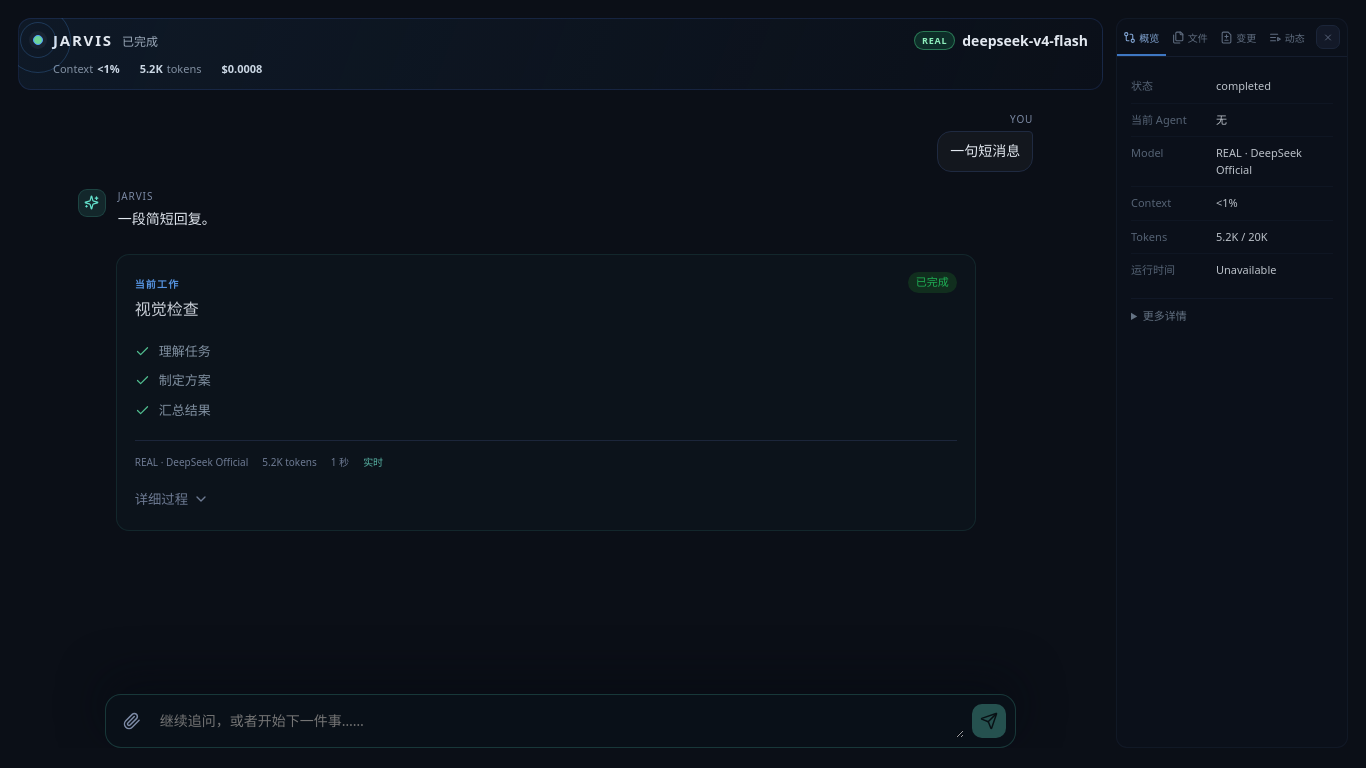
UI-POLISH03/04/05/08: compact header semantics, user identity dedup, and inspector close hold
Check: the text "一句短消息" is shown, box 937,131 -> 1033,172
Check: the element with class "user" shows "You", box 1010,112 -> 1033,126
Click the button named "关闭检查器": (1328, 37) 1316,25 -> 1340,49
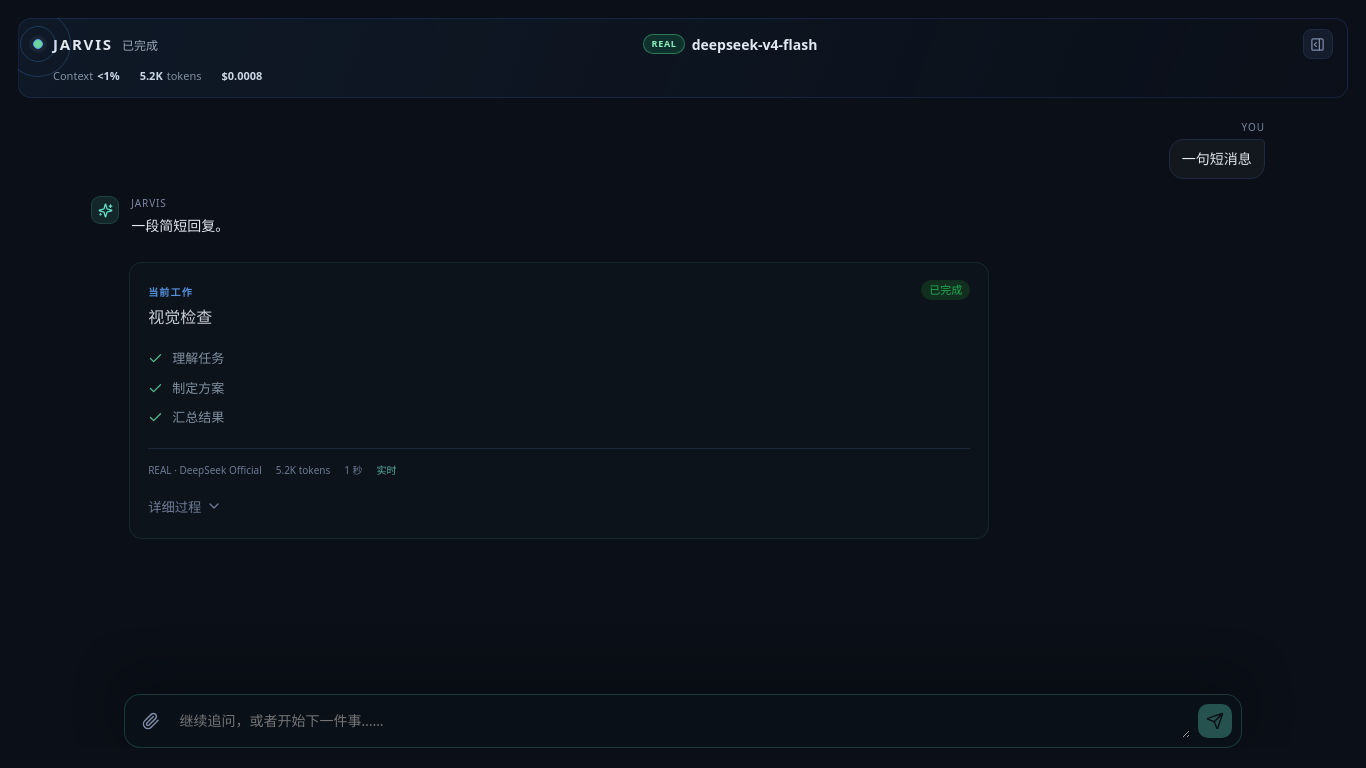
Check: the button named "打开检查器" is shown, box 1303,29 -> 1333,59
